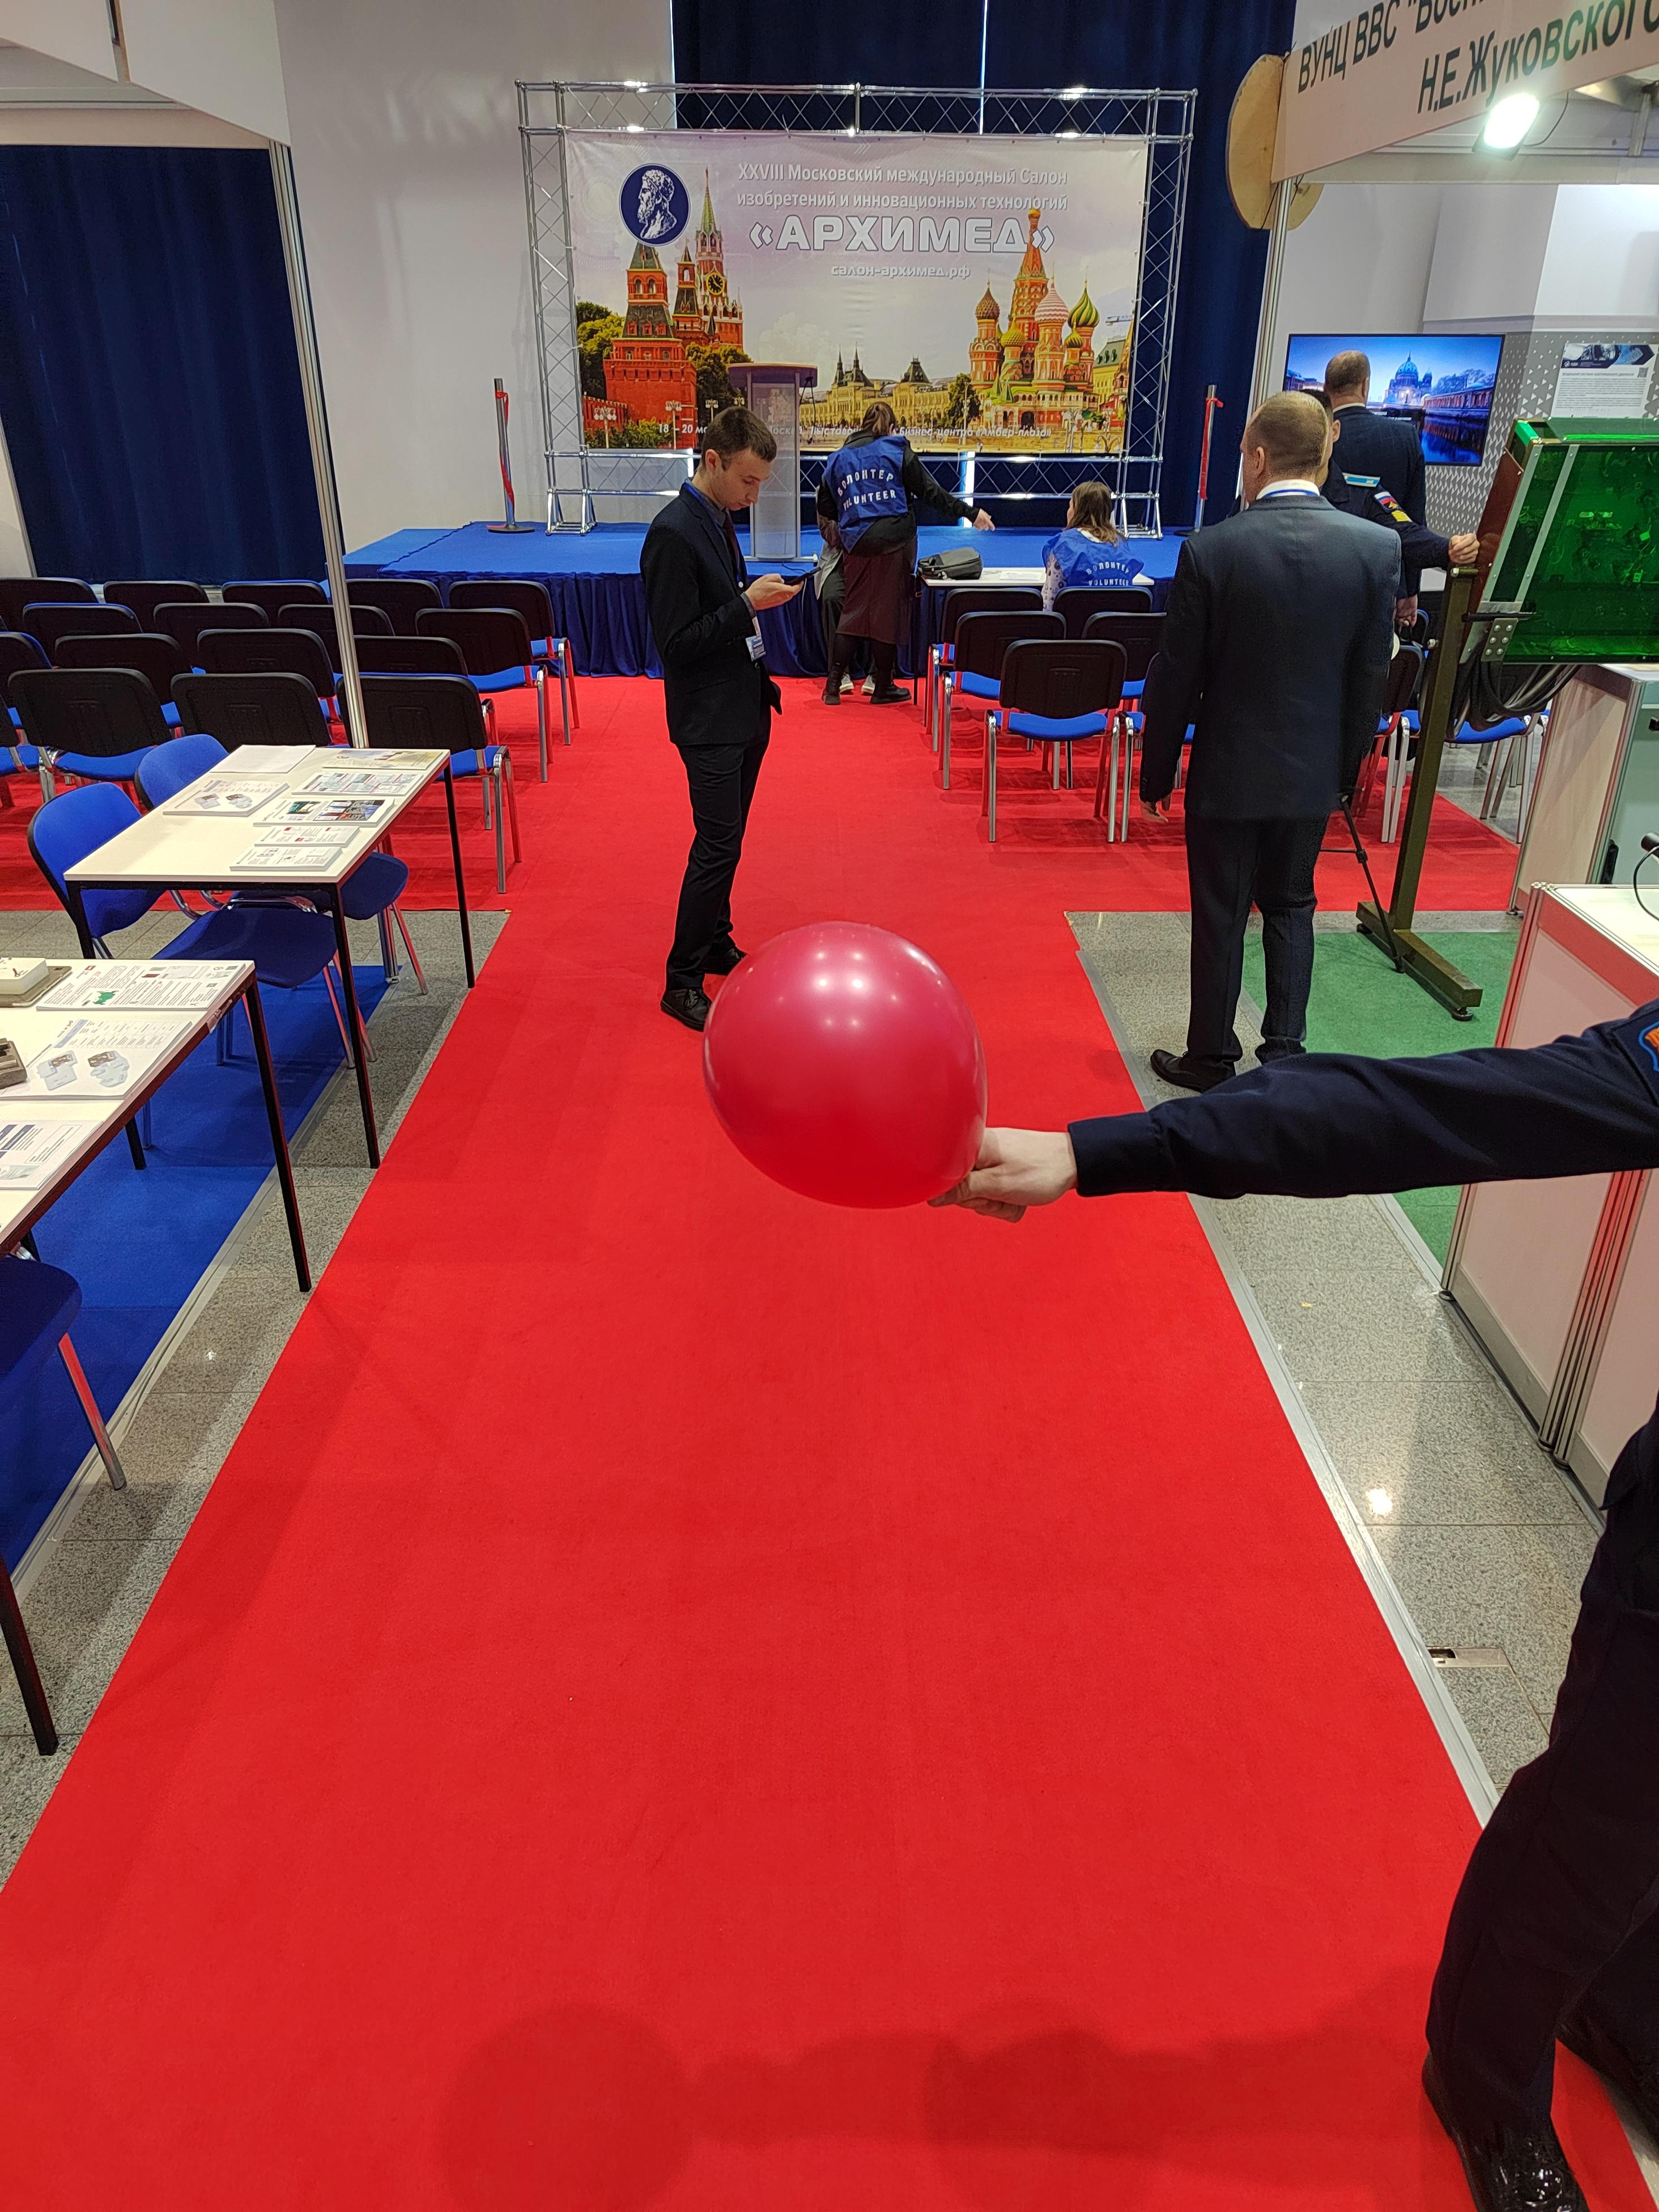red: (692, 930, 993, 1205)
